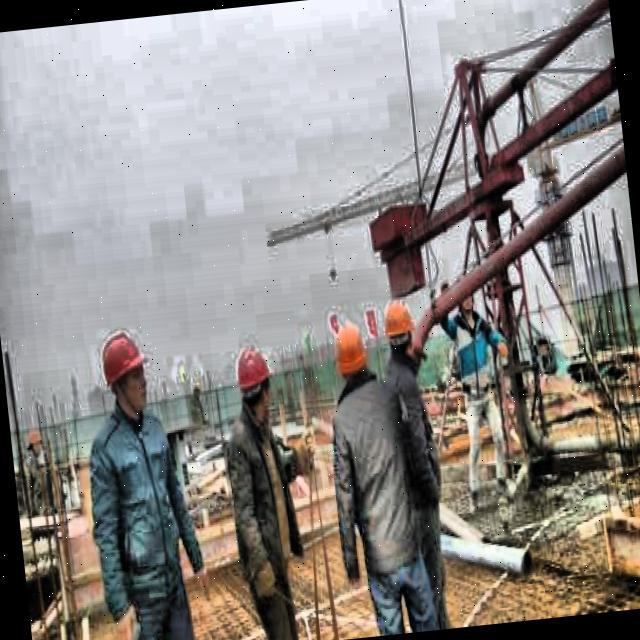helmet: (94, 324, 156, 419), (230, 336, 278, 429), (331, 313, 372, 389), (378, 294, 416, 364), (24, 422, 46, 462)
